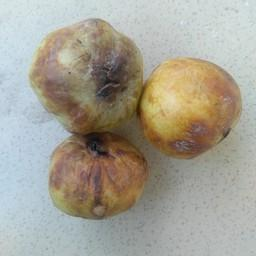Bad_guava: (25, 16, 145, 131), (36, 132, 155, 233), (139, 52, 244, 161)
